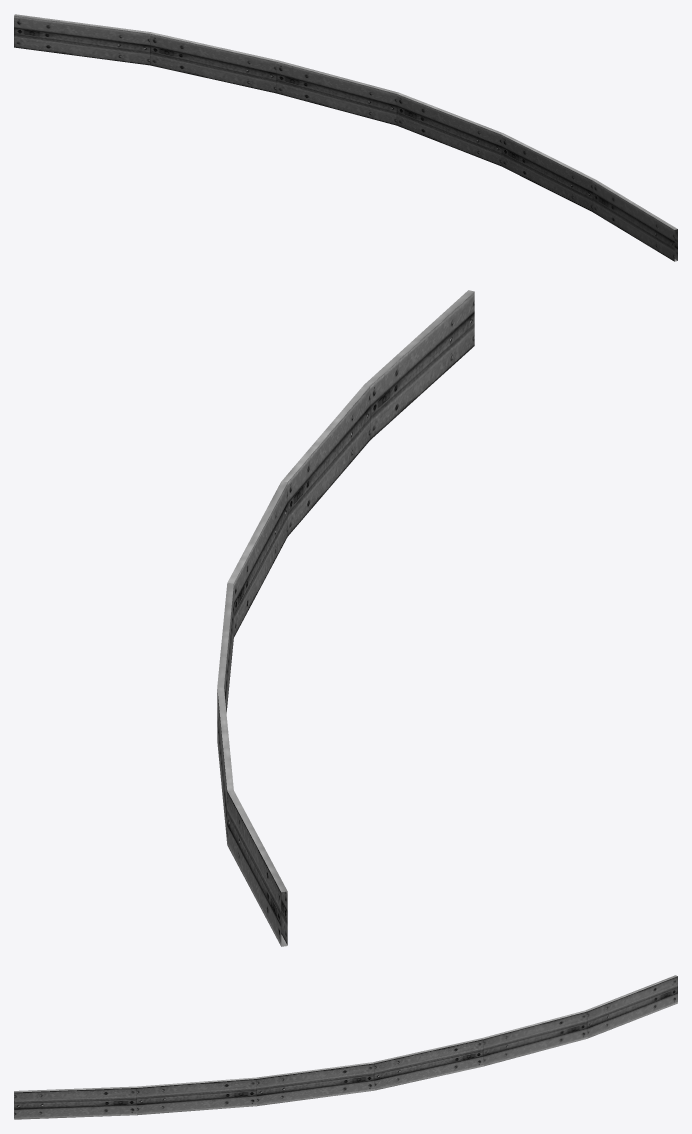
Rendered from 45guard_vs3.FBX.
3 views of the same model, one above another, from view 1: azimuth 30°, elevation 25°; view 2: azimuth 150°, elevation 25°; view 3: azimuth 270°, elevation 25° (orthographic). The views are drawn at different scales.
Visible parts, largest first — view 1: Object016; view 2: Object016; view 3: Object016.
Boxes of the visible parts, bbox=[...] form: Object016: bbox=[14, 14, 677, 261]; Object016: bbox=[217, 290, 474, 946]; Object016: bbox=[14, 975, 677, 1119].
Size of the model in its own units: 887 by 96.2 by 2122.
